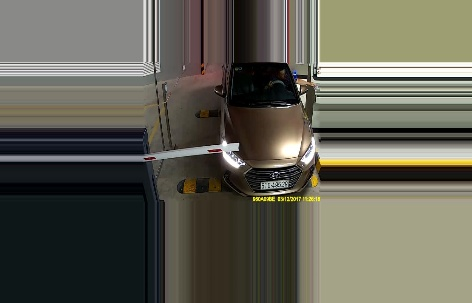plate: (257, 178, 295, 190)
